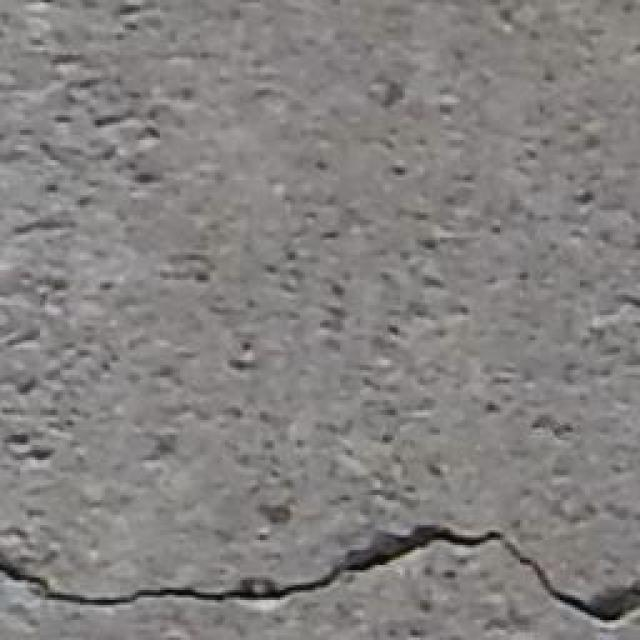concrete-crack: (0, 522, 638, 620)
